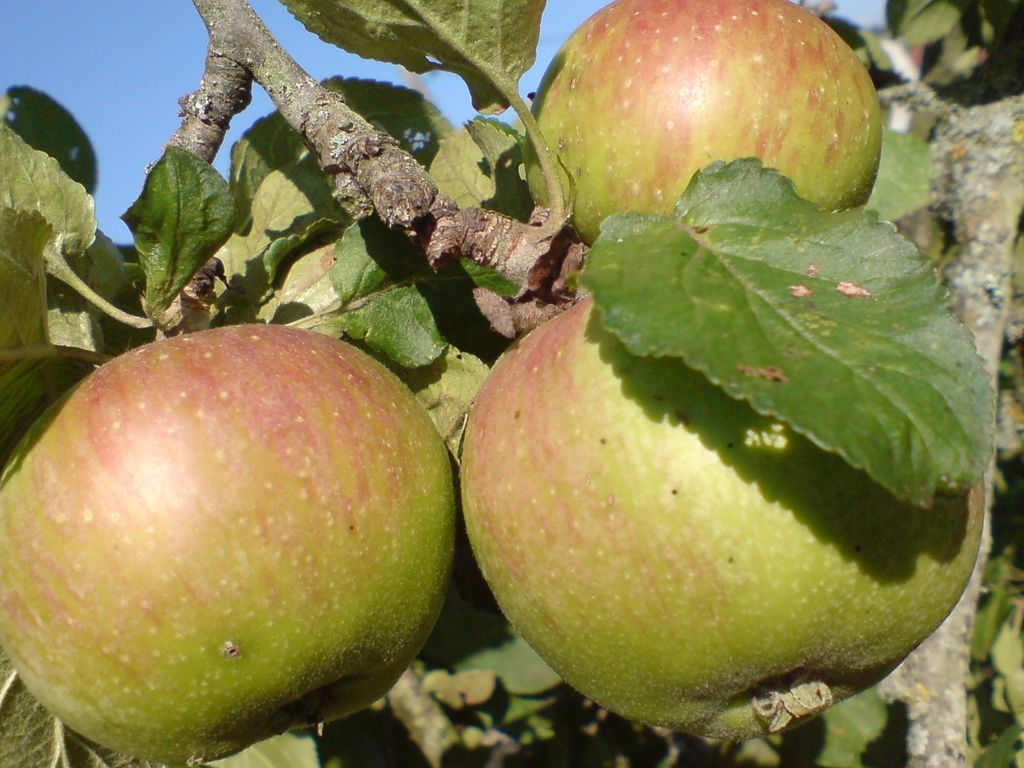Apple: (455, 296, 987, 748), (0, 317, 461, 733), (520, 0, 883, 245)
